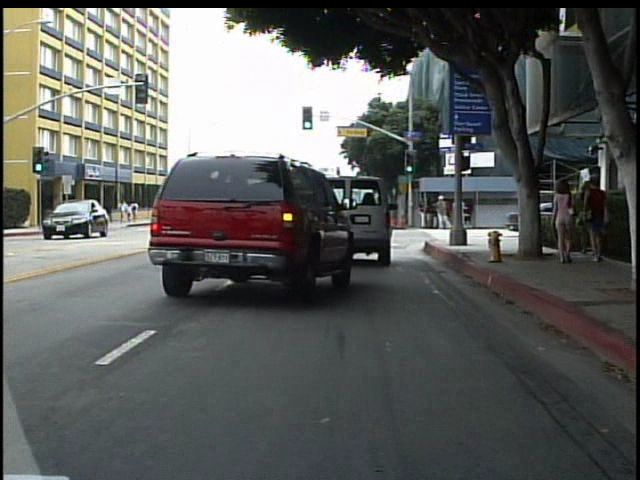person: (583, 175, 615, 267), (548, 177, 578, 268), (434, 192, 450, 232), (77, 198, 94, 226)
